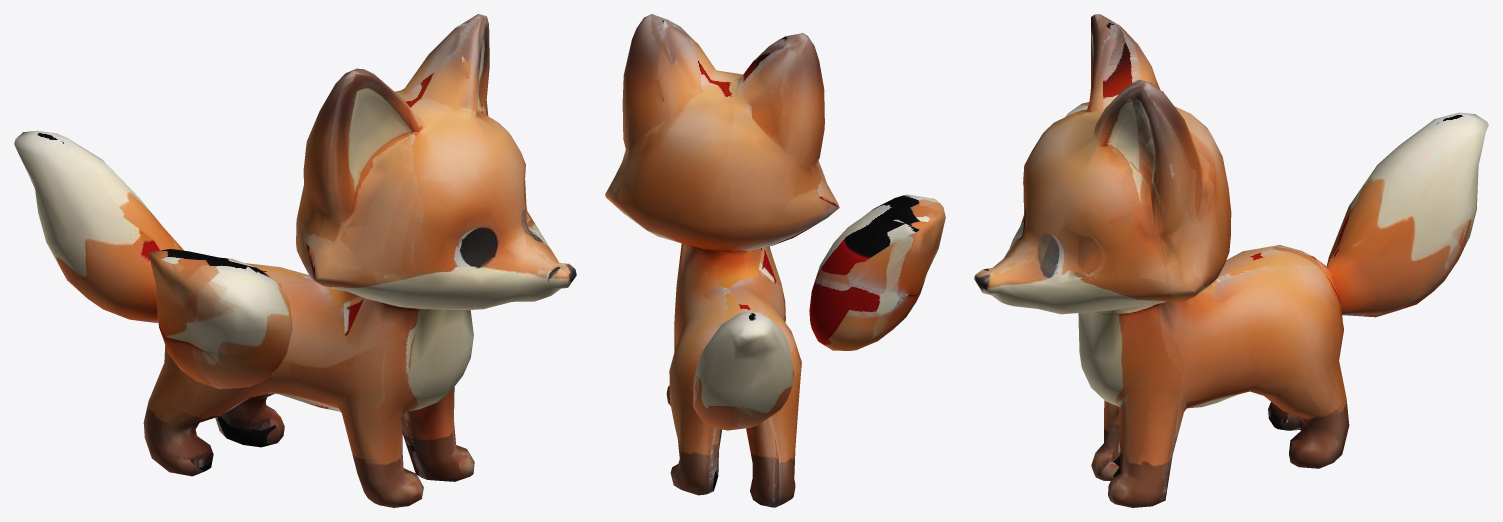
Rendered from fox-low.glb.
3 renders of one model, left to right at view 1: azimuth 30°, elevation 25°; view 2: azimuth 150°, elevation 25°; view 3: azimuth 270°, elevation 25°, orthographic. The views are drawn at different scales.
Parts seen in each view (by area): view 1: fox_LOD1; view 2: fox_LOD1; view 3: fox_LOD1.
Part boxes in pixels (bbox=[...]): fox_LOD1: bbox=[14, 14, 576, 507]; fox_LOD1: bbox=[605, 14, 945, 507]; fox_LOD1: bbox=[974, 14, 1488, 507].
Bounding box in the file's own units: 0.7293 × 0.8947 × 0.9389.
1 material, 1 textured.
